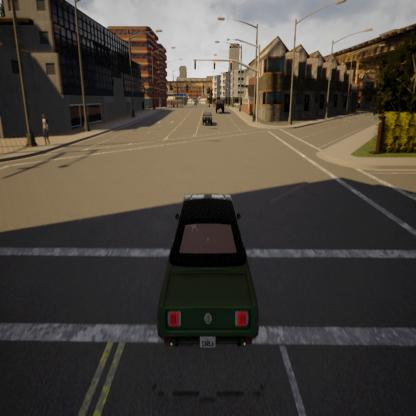Cars: (144, 166, 274, 357), (200, 105, 214, 129), (215, 91, 225, 116)
Pedestrian: (35, 105, 56, 161)
